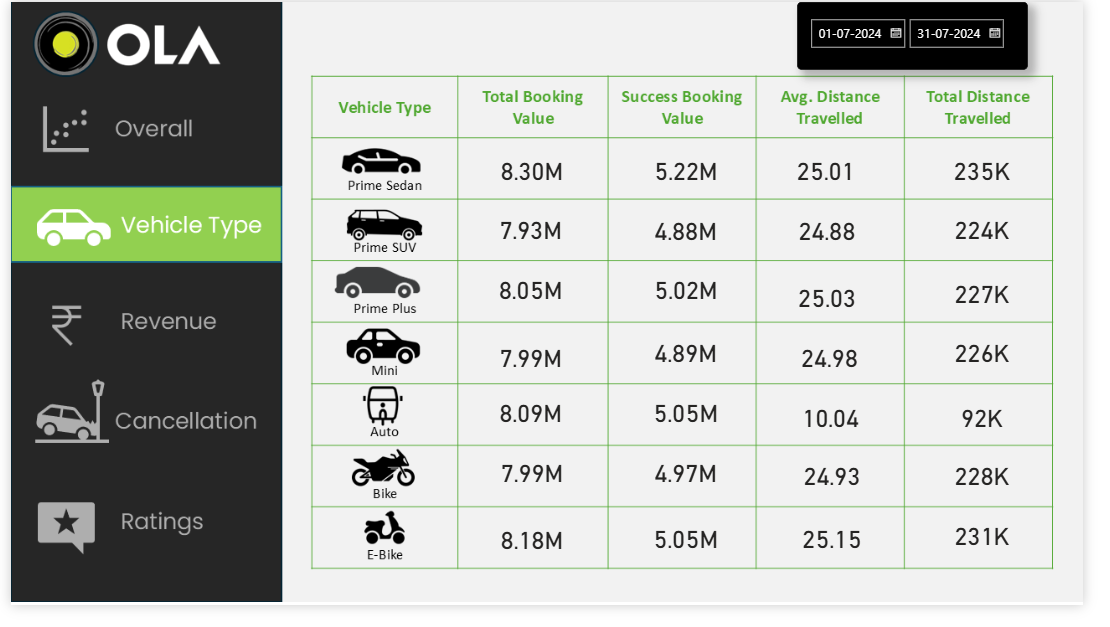

The dashboard page shown, as its layout file describes it:
{"tool":"powerbi","page":{"name":"Vehicle_type","canvas":[1280,720],"ordinal":1},"visuals":[{"type":"actionButton","box":[0,342.5,323.8,91.2],"z":0},{"type":"actionButton","box":[0,433.8,323.8,111.2],"z":1000},{"type":"actionButton","box":[0,571.2,323.8,95],"z":2000},{"type":"actionButton","box":[0,105,323.8,95],"z":3000},{"type":"card","fields":{"Values":["Sum(OLA_Bookings.Booking_Value)"]},"box":[538.1,165.3,166.5,71.2],"z":4000},{"type":"card","fields":{"Values":["Sum(OLA_Bookings.Booking_Value)"]},"box":[537.6,236.1,166.5,71.2],"z":5000},{"type":"card","fields":{"Values":["Sum(OLA_Bookings.Booking_Value)"]},"box":[537.6,307.2,166.5,71.2],"z":6000},{"type":"card","fields":{"Values":["Sum(OLA_Bookings.Booking_Value)"]},"box":[537.6,388.3,166.5,71.2],"z":7000},{"type":"card","fields":{"Values":["Sum(OLA_Bookings.Booking_Value)"]},"box":[537.6,453.7,166.5,71.2],"z":8000},{"type":"card","fields":{"Values":["Sum(OLA_Bookings.Booking_Value)"]},"box":[539,524.8,166.5,71.2],"z":9000},{"type":"card","fields":{"Values":["Sum(OLA_Bookings.Booking_Value)"]},"box":[539,605.9,166.5,71.2],"z":10000},{"type":"card","fields":{"Values":["Sum(OLA_Bookings.Booking_Value)"]},"box":[722.6,165.5,166.5,71.2],"z":11000},{"type":"card","fields":{"Values":["Sum(OLA_Bookings.Booking_Value)"]},"box":[722.6,236.7,166.5,71.2],"z":12000},{"type":"card","fields":{"Values":["Sum(OLA_Bookings.Booking_Value)"]},"box":[722.6,307.9,166.5,71.2],"z":13000},{"type":"card","fields":{"Values":["Sum(OLA_Bookings.Booking_Value)"]},"box":[722.6,382.7,166.5,71.2],"z":14000},{"type":"card","fields":{"Values":["Sum(OLA_Bookings.Booking_Value)"]},"box":[722.6,453.8,166.5,71.2],"z":15000},{"type":"card","fields":{"Values":["Sum(OLA_Bookings.Booking_Value)"]},"box":[722.6,525,166.5,71.2],"z":16000},{"type":"card","fields":{"Values":["Sum(OLA_Bookings.Booking_Value)"]},"box":[722.6,605.1,166.5,71.2],"z":17000},{"type":"card","fields":{"Values":["Avg(OLA_Bookings.Ride_Distance)"]},"box":[889.9,165.5,166.5,71.2],"z":18000},{"type":"card","fields":{"Values":["Avg(OLA_Bookings.Ride_Distance)"]},"box":[891.7,236.7,166.5,71.2],"z":19000},{"type":"card","fields":{"Values":["Avg(OLA_Bookings.Ride_Distance)"]},"box":[891.7,316.8,166.5,71.2],"z":20000},{"type":"card","fields":{"Values":["Avg(OLA_Bookings.Ride_Distance)"]},"box":[893.5,388,166.5,71.2],"z":21000},{"type":"card","fields":{"Values":["Avg(OLA_Bookings.Ride_Distance)"]},"box":[895.2,459.2,166.5,71.2],"z":22000},{"type":"card","fields":{"Values":["Avg(OLA_Bookings.Ride_Distance)"]},"box":[897,530.4,166.5,71.2],"z":23000},{"type":"card","fields":{"Values":["Avg(OLA_Bookings.Ride_Distance)"]},"box":[897,605.1,166.5,71.2],"z":24000},{"type":"card","fields":{"Values":["Sum(OLA_Bookings.Ride_Distance)"]},"box":[1076.6,165,166.5,71.2],"z":25000},{"type":"card","fields":{"Values":["Sum(OLA_Bookings.Ride_Distance)"]},"box":[1076.6,236.1,166.5,71.2],"z":26000},{"type":"card","fields":{"Values":["Sum(OLA_Bookings.Ride_Distance)"]},"box":[1076.6,311.5,166.5,71.2],"z":27000},{"type":"card","fields":{"Values":["Sum(OLA_Bookings.Ride_Distance)"]},"box":[1076.6,382.6,166.5,71.2],"z":28000},{"type":"card","fields":{"Values":["Sum(OLA_Bookings.Ride_Distance)"]},"box":[1076.6,459.4,166.5,71.2],"z":29000},{"type":"card","fields":{"Values":["Sum(OLA_Bookings.Ride_Distance)"]},"box":[1076.6,530.5,166.5,71.2],"z":30000},{"type":"card","fields":{"Values":["Sum(OLA_Bookings.Ride_Distance)"]},"box":[1076.6,601.6,166.5,71.2],"z":31000},{"type":"slicer","title":"Date","fields":{"Values":["OLA_Bookings.Date"]},"box":[939.2,0,275.6,80.8],"z":32000}]}

Visuals, with their boxes on the page's 1280x720 design canvas (x1, y1, x2, y2). These are canvas units, not pixel positions in the 1110x627 screenshot, which may show the page scaled, cropped or inside an application window:
actionButton: locate(0, 342, 324, 434)
actionButton: locate(0, 434, 324, 545)
actionButton: locate(0, 571, 324, 666)
actionButton: locate(0, 105, 324, 200)
card - Sum(OLA_Bookings.Booking_Value): locate(538, 165, 705, 236)
card - Sum(OLA_Bookings.Booking_Value): locate(538, 236, 704, 307)
card - Sum(OLA_Bookings.Booking_Value): locate(538, 307, 704, 378)
card - Sum(OLA_Bookings.Booking_Value): locate(538, 388, 704, 460)
card - Sum(OLA_Bookings.Booking_Value): locate(538, 454, 704, 525)
card - Sum(OLA_Bookings.Booking_Value): locate(539, 525, 706, 596)
card - Sum(OLA_Bookings.Booking_Value): locate(539, 606, 706, 677)
card - Sum(OLA_Bookings.Booking_Value): locate(723, 166, 889, 237)
card - Sum(OLA_Bookings.Booking_Value): locate(723, 237, 889, 308)
card - Sum(OLA_Bookings.Booking_Value): locate(723, 308, 889, 379)
card - Sum(OLA_Bookings.Booking_Value): locate(723, 383, 889, 454)
card - Sum(OLA_Bookings.Booking_Value): locate(723, 454, 889, 525)
card - Sum(OLA_Bookings.Booking_Value): locate(723, 525, 889, 596)
card - Sum(OLA_Bookings.Booking_Value): locate(723, 605, 889, 676)
card - Avg(OLA_Bookings.Ride_Distance): locate(890, 166, 1056, 237)
card - Avg(OLA_Bookings.Ride_Distance): locate(892, 237, 1058, 308)
card - Avg(OLA_Bookings.Ride_Distance): locate(892, 317, 1058, 388)
card - Avg(OLA_Bookings.Ride_Distance): locate(894, 388, 1060, 459)
card - Avg(OLA_Bookings.Ride_Distance): locate(895, 459, 1062, 530)
card - Avg(OLA_Bookings.Ride_Distance): locate(897, 530, 1064, 602)
card - Avg(OLA_Bookings.Ride_Distance): locate(897, 605, 1064, 676)
card - Sum(OLA_Bookings.Ride_Distance): locate(1077, 165, 1243, 236)
card - Sum(OLA_Bookings.Ride_Distance): locate(1077, 236, 1243, 307)
card - Sum(OLA_Bookings.Ride_Distance): locate(1077, 312, 1243, 383)
card - Sum(OLA_Bookings.Ride_Distance): locate(1077, 383, 1243, 454)
card - Sum(OLA_Bookings.Ride_Distance): locate(1077, 459, 1243, 531)
card - Sum(OLA_Bookings.Ride_Distance): locate(1077, 530, 1243, 602)
card - Sum(OLA_Bookings.Ride_Distance): locate(1077, 602, 1243, 673)
"Date" slicer: locate(939, 0, 1215, 81)
